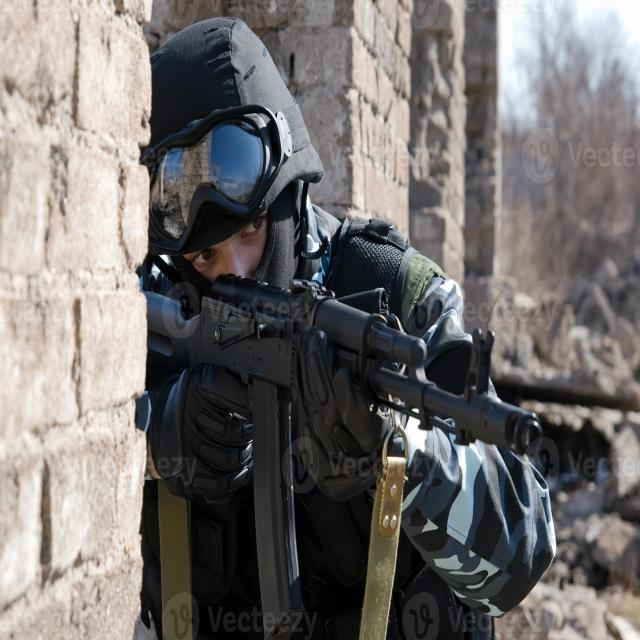soldier: (149, 13, 557, 640)
